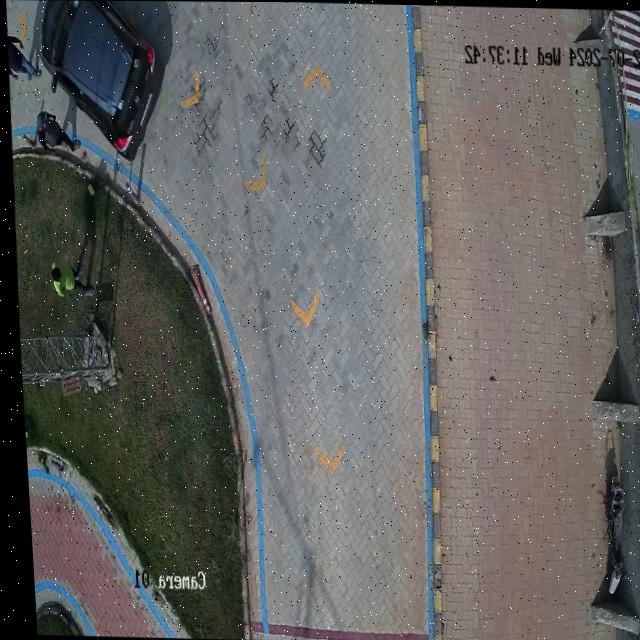car: (40, 0, 163, 162)
